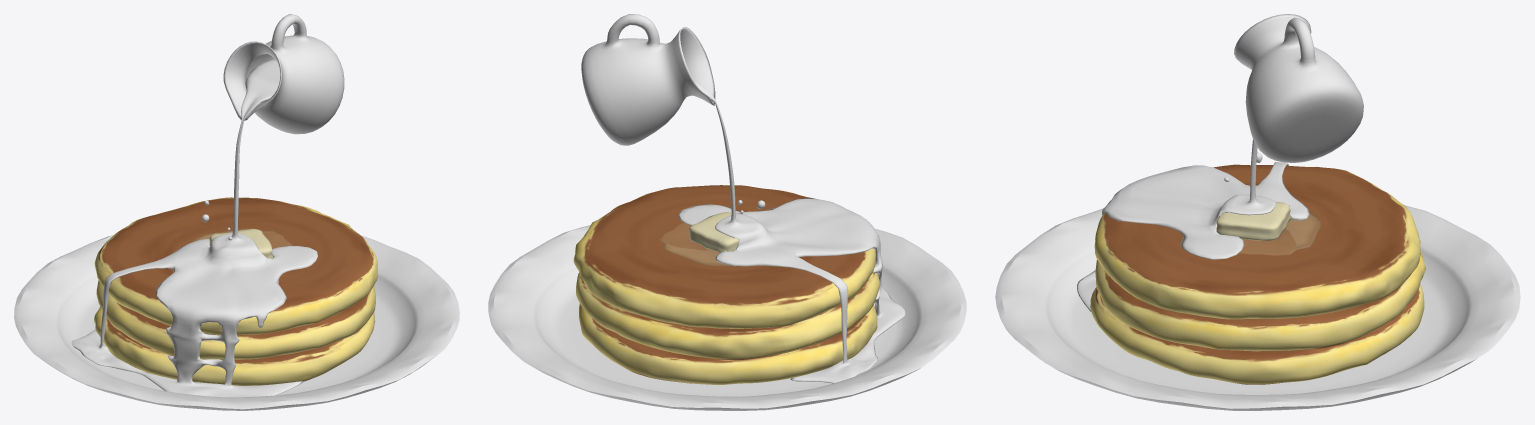
File: pancake.fbx
The picture shows the model from 3 angles, left to right: view 1: azimuth 30°, elevation 25°; view 2: azimuth 150°, elevation 25°; view 3: azimuth 270°, elevation 25°; orthographic projection. The views are drawn at different scales.
Parts seen in each view (by area): view 1: Dish, PanCake.003, Honey, HoneyPot, PanCake.001, PanCake.002, Butter; view 2: Dish, PanCake.003, Honey, HoneyPot, PanCake.002, PanCake.001, Butter Melt, Butter; view 3: Dish, PanCake.003, HoneyPot, Honey, PanCake.002, PanCake.001, Butter, Butter Melt.
Boxes of the visible parts, x1,y1,x2,y2 form: Dish: (14, 235, 459, 410); PanCake.003: (94, 197, 377, 335); Honey: (71, 59, 317, 397); HoneyPot: (223, 14, 344, 134); PanCake.001: (94, 306, 375, 385); PanCake.002: (96, 280, 375, 359); Butter: (209, 228, 272, 258); Dish: (488, 225, 966, 410); PanCake.003: (573, 185, 875, 328); Honey: (678, 81, 905, 383); HoneyPot: (581, 14, 715, 145); PanCake.002: (576, 272, 880, 359); PanCake.001: (579, 303, 877, 384); Butter Melt: (658, 223, 729, 265); Butter: (689, 212, 738, 253); Dish: (995, 205, 1520, 410); PanCake.003: (1094, 164, 1420, 319); HoneyPot: (1234, 14, 1363, 162); Honey: (1077, 139, 1309, 311); PanCake.002: (1095, 250, 1425, 351); PanCake.001: (1090, 284, 1424, 384); Butter: (1216, 201, 1291, 240); Butter Melt: (1240, 212, 1320, 254).
Size of the model in its own units: 197 by 148 by 197.
6 materials, 1 textured.
